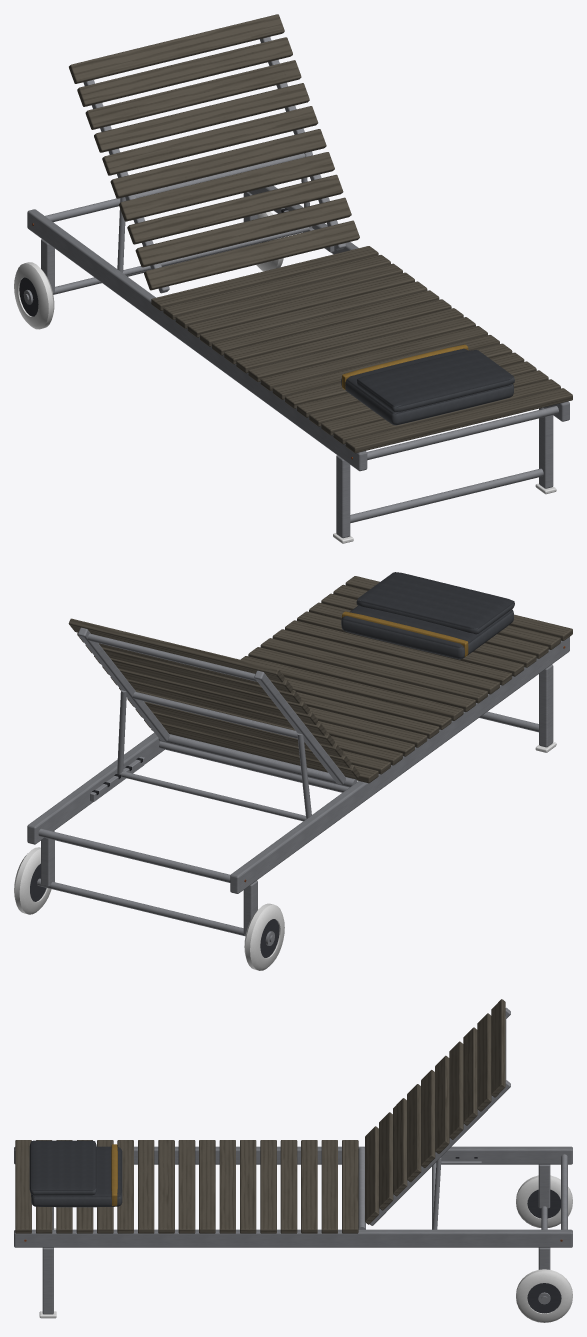
Rendered from sun_lounger.glb.
The picture shows the model from 3 angles, top to bottom: view 1: azimuth 30°, elevation 25°; view 2: azimuth 150°, elevation 25°; view 3: azimuth 270°, elevation 25°; orthographic projection. The views are drawn at different scales.
Parts seen in each view (by area): view 1: frame_steel_brushed_1, towel_fabric_towel_wet_0, back_slats_wood_teak_wet_0, back_slats_wood_teak_wet_1, back_slats_wood_teak_wet_2, back_slats_wood_teak_wet_3, back_slats_wood_teak_wet_7, back_slats_wood_teak_wet_4, back_slats_wood_teak_wet_5, back_slats_wood_teak_wet_6, back_slats_wood_teak_wet_8, back_slats_wood_teak_wet_9 (+23 smaller); view 2: frame_steel_brushed_1, back_frame_steel_brushed_0, towel_fabric_towel_wet_0, slats_wood_teak_wet_9, slats_wood_teak_wet_8, slats_wood_teak_wet_11, slats_wood_teak_wet_10, towel_fabric_towel_slate_1, slats_wood_teak_wet_7, strut_steel_brushed_0, back_slats_wood_teak_wet_9, frame_steel_brushed_wet_0 (+24 smaller); view 3: frame_steel_brushed_1, towel_fabric_towel_wet_0, frame_steel_brushed_wet_0, slats_wood_teak_wet_3, slats_wood_teak_wet_8, wheel_l_rubber_0, back_frame_steel_brushed_0, slats_wood_teak_wet_2, slats_wood_teak_wet_4, slats_wood_teak_wet_7, slats_wood_teak_wet_9, slats_wood_teak_wet_0 (+26 smaller).
Boxes of the visible parts, x1=… form: frame_steel_brushed_1: x1=24, y1=188, x2=569, y2=538; towel_fabric_towel_wet_0: x1=346, y1=348, x2=513, y2=414; back_slats_wood_teak_wet_0: x1=144, y1=220, x2=359, y2=290; back_slats_wood_teak_wet_1: x1=135, y1=197, x2=351, y2=267; back_slats_wood_teak_wet_2: x1=127, y1=174, x2=343, y2=244; back_slats_wood_teak_wet_3: x1=119, y1=152, x2=334, y2=221; back_slats_wood_teak_wet_7: x1=85, y1=60, x2=301, y2=129; back_slats_wood_teak_wet_4: x1=110, y1=129, x2=326, y2=198; back_slats_wood_teak_wet_5: x1=102, y1=106, x2=318, y2=175; back_slats_wood_teak_wet_6: x1=94, y1=83, x2=309, y2=152; back_slats_wood_teak_wet_8: x1=77, y1=37, x2=292, y2=106; back_slats_wood_teak_wet_9: x1=69, y1=14, x2=284, y2=83; frame_steel_brushed_1: x1=27, y1=637, x2=569, y2=942; back_frame_steel_brushed_0: x1=78, y1=627, x2=357, y2=787; towel_fabric_towel_wet_0: x1=342, y1=572, x2=514, y2=648; slats_wood_teak_wet_9: x1=260, y1=638, x2=487, y2=703; slats_wood_teak_wet_8: x1=248, y1=647, x2=475, y2=711; slats_wood_teak_wet_11: x1=285, y1=620, x2=512, y2=685; slats_wood_teak_wet_10: x1=272, y1=629, x2=499, y2=694; towel_fabric_towel_slate_1: x1=341, y1=600, x2=514, y2=659; slats_wood_teak_wet_7: x1=240, y1=656, x2=463, y2=720; strut_steel_brushed_0: x1=117, y1=690, x2=311, y2=821; back_slats_wood_teak_wet_9: x1=68, y1=618, x2=284, y2=682; frame_steel_brushed_wet_0: x1=28, y1=640, x2=561, y2=885; frame_steel_brushed_1: x1=14, y1=1147, x2=572, y2=1314; towel_fabric_towel_wet_0: x1=30, y1=1140, x2=121, y2=1197; frame_steel_brushed_wet_0: x1=14, y1=1146, x2=572, y2=1248; slats_wood_teak_wet_3: x1=280, y1=1140, x2=297, y2=1233; slats_wood_teak_wet_8: x1=178, y1=1140, x2=195, y2=1233; wheel_l_rubber_0: x1=516, y1=1269, x2=572, y2=1322; back_frame_steel_brushed_0: x1=358, y1=1007, x2=510, y2=1229; slats_wood_teak_wet_2: x1=301, y1=1140, x2=317, y2=1233; slats_wood_teak_wet_4: x1=260, y1=1140, x2=276, y2=1233; slats_wood_teak_wet_7: x1=199, y1=1140, x2=215, y2=1233; slats_wood_teak_wet_9: x1=158, y1=1140, x2=174, y2=1233; slats_wood_teak_wet_0: x1=342, y1=1140, x2=358, y2=1233.
Size of what is drawn, in the model's own units: 0.84 by 0.9023 by 1.96.
Materials: 11 (11 with a texture image).
